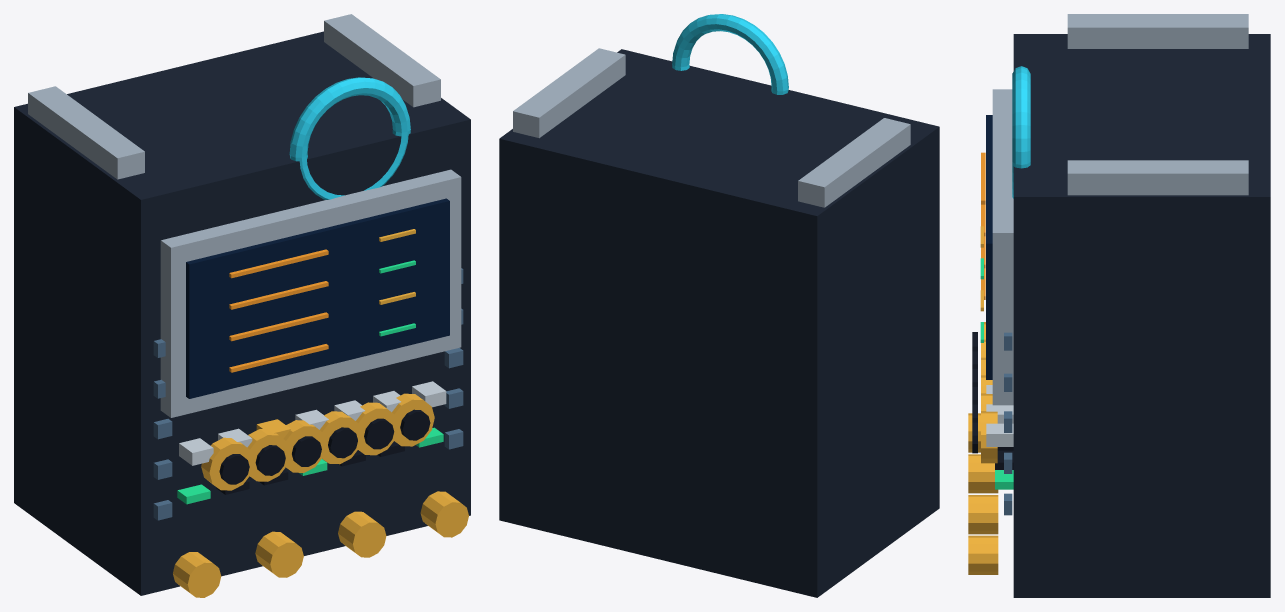
Rendered from 54_L85_ProtectedAutonomousAbortController.fbx.
3 renders of one model, left to right at view 1: azimuth 30°, elevation 25°; view 2: azimuth 150°, elevation 25°; view 3: azimuth 270°, elevation 25°, orthographic. The views are drawn at different scales.
Parts seen in each view (by area): view 1: L85_ProtectedAutonomousAbortController, L85_ProtectedAutonomousAbortController_Part_0009, L85_ProtectedAutonomousAbortController_Part_0010, L85_ProtectedAutonomousAbortController_Part_0012, L85_ProtectedAutonomousAbortController_Part_0020, L85_ProtectedAutonomousAbortController_Part_0016, L85_ProtectedAutonomousAbortController_Part_0014, L85_ProtectedAutonomousAbortController_Part_0018, L85_ProtectedAutonomousAbortController_Part_0019, L85_ProtectedAutonomousAbortController_Part_0017, L85_ProtectedAutonomousAbortController_Part_0011, L85_ProtectedAutonomousAbortController_Part_0013 (+2 smaller); view 2: L85_ProtectedAutonomousAbortController, L85_ProtectedAutonomousAbortController_Part_0009; view 3: L85_ProtectedAutonomousAbortController, L85_ProtectedAutonomousAbortController_Part_0009, L85_ProtectedAutonomousAbortController_Part_0020.
Boxes of the visible parts, x1=… form: L85_ProtectedAutonomousAbortController: x1=14, y1=14, x2=470, y2=597; L85_ProtectedAutonomousAbortController_Part_0009: x1=289, y1=77, x2=410, y2=199; L85_ProtectedAutonomousAbortController_Part_0010: x1=201, y1=437, x2=253, y2=490; L85_ProtectedAutonomousAbortController_Part_0012: x1=247, y1=429, x2=289, y2=481; L85_ProtectedAutonomousAbortController_Part_0020: x1=391, y1=393, x2=434, y2=446; L85_ProtectedAutonomousAbortController_Part_0016: x1=319, y1=411, x2=362, y2=464; L85_ProtectedAutonomousAbortController_Part_0014: x1=283, y1=420, x2=325, y2=472; L85_ProtectedAutonomousAbortController_Part_0018: x1=356, y1=402, x2=397, y2=455; L85_ProtectedAutonomousAbortController_Part_0019: x1=364, y1=418, x2=394, y2=449; L85_ProtectedAutonomousAbortController_Part_0017: x1=328, y1=427, x2=357, y2=458; L85_ProtectedAutonomousAbortController_Part_0011: x1=219, y1=454, x2=249, y2=484; L85_ProtectedAutonomousAbortController_Part_0013: x1=255, y1=445, x2=285, y2=475; L85_ProtectedAutonomousAbortController: x1=499, y1=48, x2=939, y2=597; L85_ProtectedAutonomousAbortController_Part_0009: x1=672, y1=14, x2=788, y2=94; L85_ProtectedAutonomousAbortController: x1=968, y1=14, x2=1270, y2=597; L85_ProtectedAutonomousAbortController_Part_0009: x1=1012, y1=66, x2=1030, y2=198; L85_ProtectedAutonomousAbortController_Part_0020: x1=981, y1=411, x2=997, y2=463.
Bounding box in the file's own units: 95.88 × 128 × 75.2.
